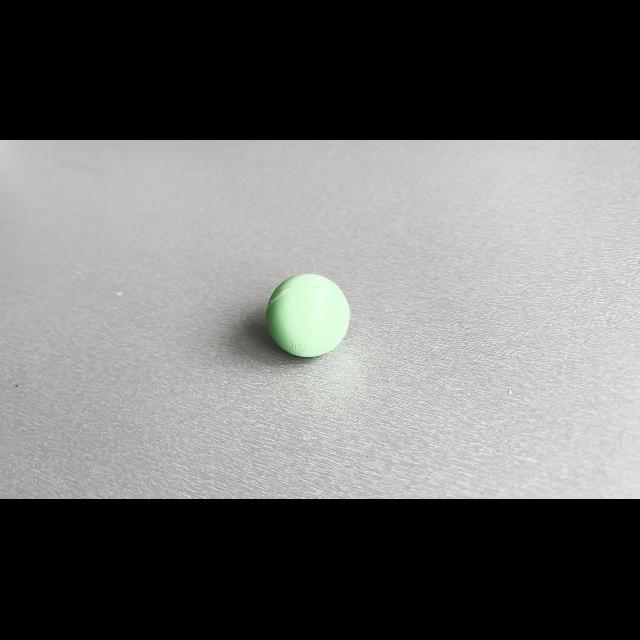objects: (260, 268, 354, 362)
